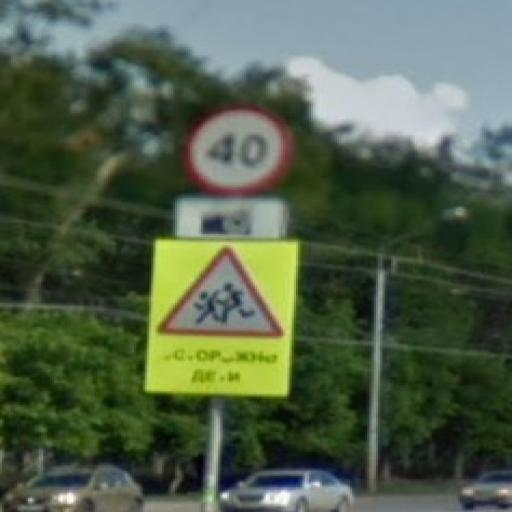traffic_sign: (155, 245, 287, 341), (183, 105, 299, 201)
